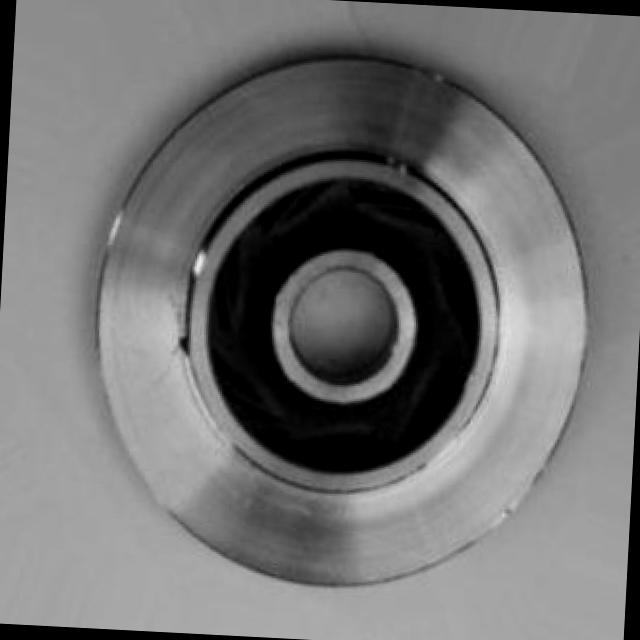Defect: (167, 326, 205, 368)
